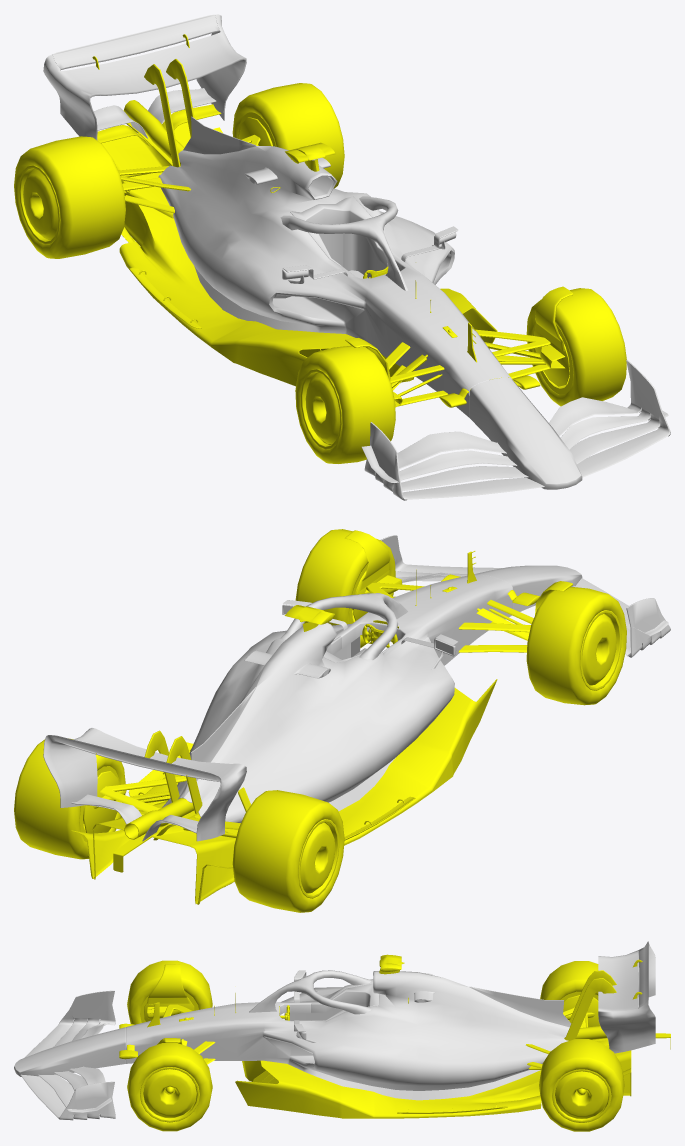
Rendered from F1PS_F1_Car_V06_Split_NewUV2.glb.
3 renders of one model, top to bottom at view 1: azimuth 30°, elevation 25°; view 2: azimuth 150°, elevation 25°; view 3: azimuth 270°, elevation 25°, orthographic. The views are drawn at different scales.
Visible parts, largest first — view 1: F1PS_F1_Car_Customizable, F1PS_F1_Car_Static; view 2: F1PS_F1_Car_Customizable, F1PS_F1_Car_Static; view 3: F1PS_F1_Car_Customizable, F1PS_F1_Car_Static.
Boxes of the visible parts, x1,y1,x2,y2 form: F1PS_F1_Car_Customizable: (43,14,670,500); F1PS_F1_Car_Static: (14,34,626,463); F1PS_F1_Car_Customizable: (43,535,670,841); F1PS_F1_Car_Static: (14,529,626,912); F1PS_F1_Car_Customizable: (14,941,655,1120); F1PS_F1_Car_Static: (119,954,670,1131).
Bounding box in the file's own units: 2.03 × 1.15 × 5.52.
Materials: 2 (1 with a texture image).
